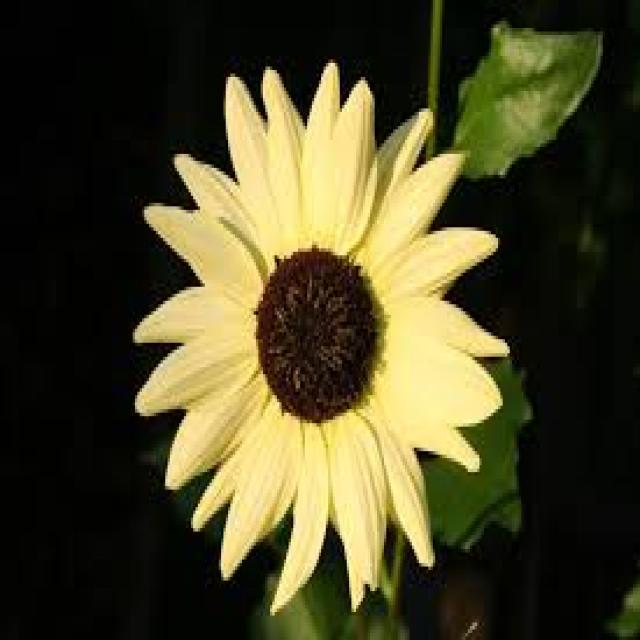sunflower: (130, 54, 520, 621)
